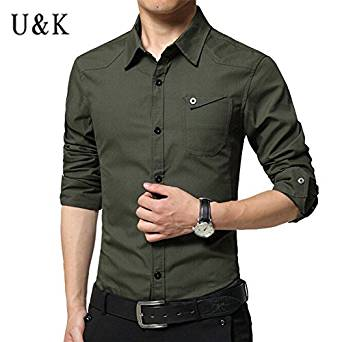Shirt: (58, 34, 326, 299)
